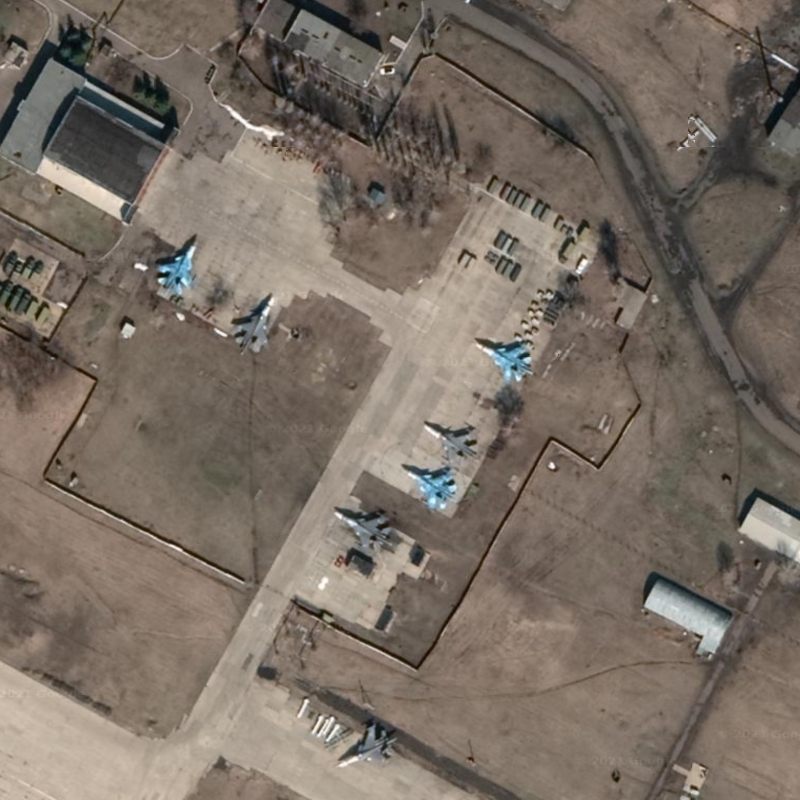A19: (335, 721, 399, 771), (232, 294, 277, 357), (473, 341, 535, 386), (331, 510, 394, 554), (422, 422, 480, 467), (402, 467, 460, 512), (154, 239, 197, 297)
